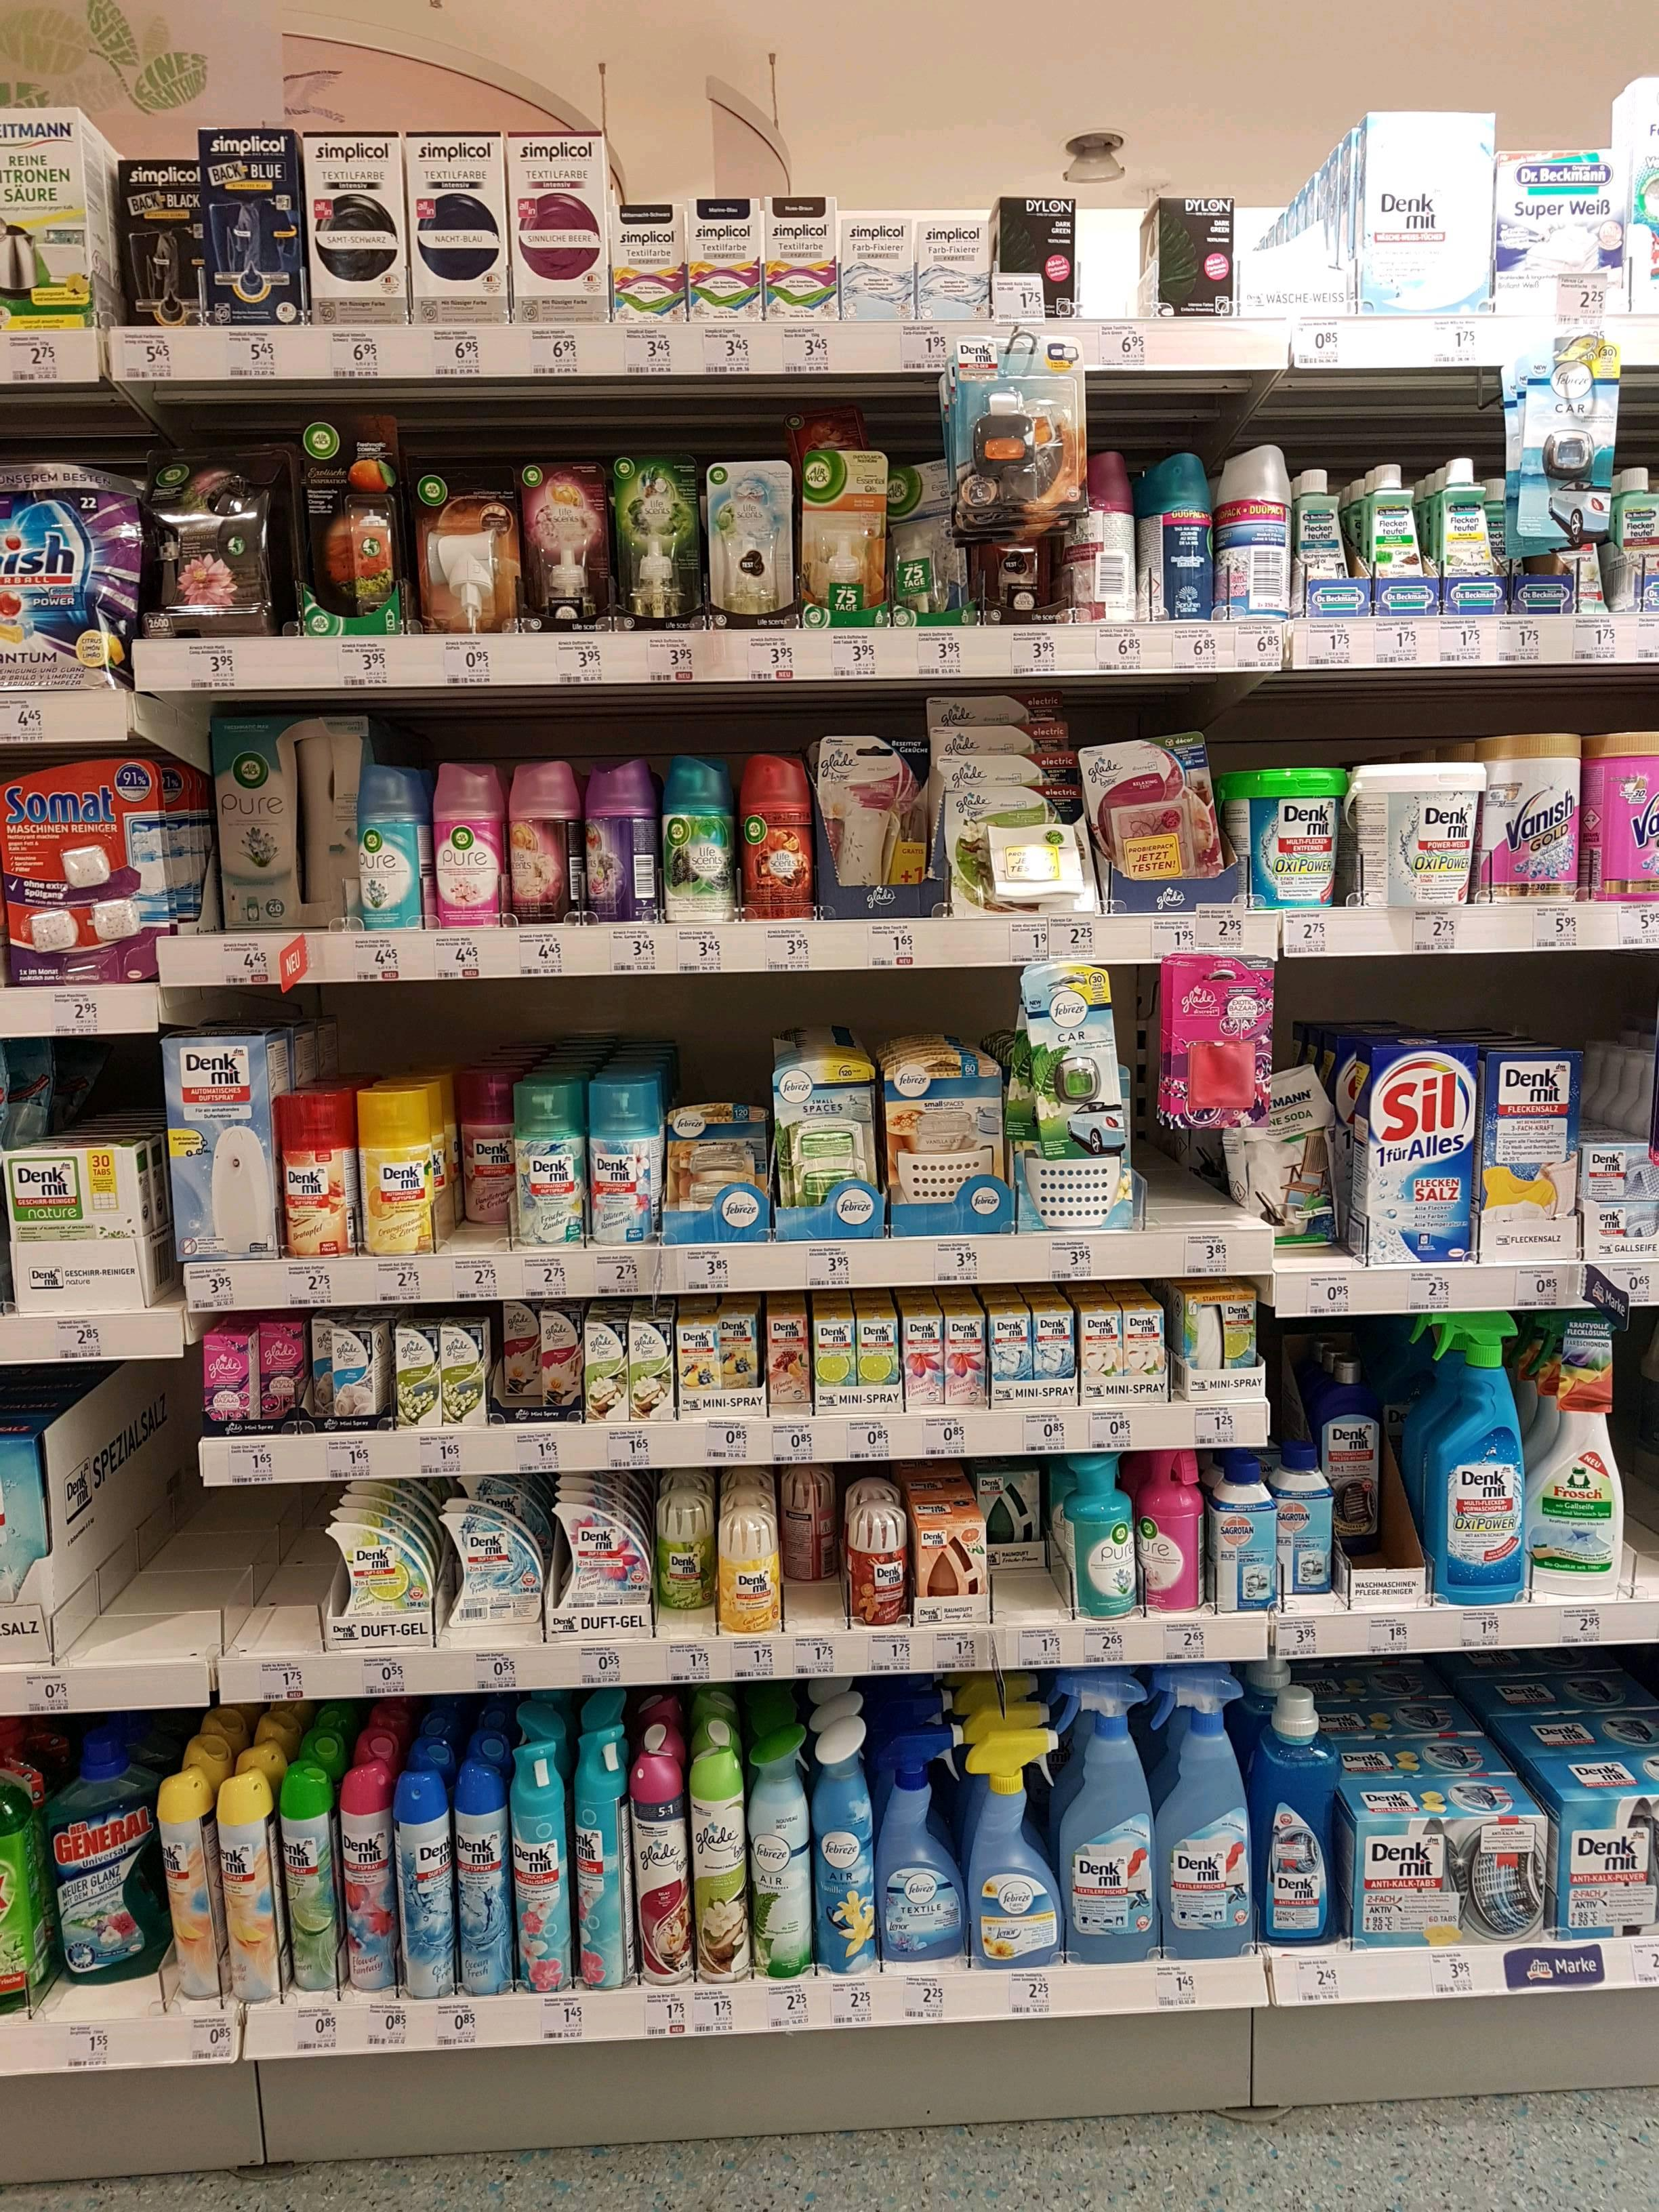empty: (103, 1416, 200, 1646), (981, 1460, 1077, 1613), (235, 1494, 329, 1648), (436, 1118, 514, 1259), (1145, 1123, 1239, 1224)
